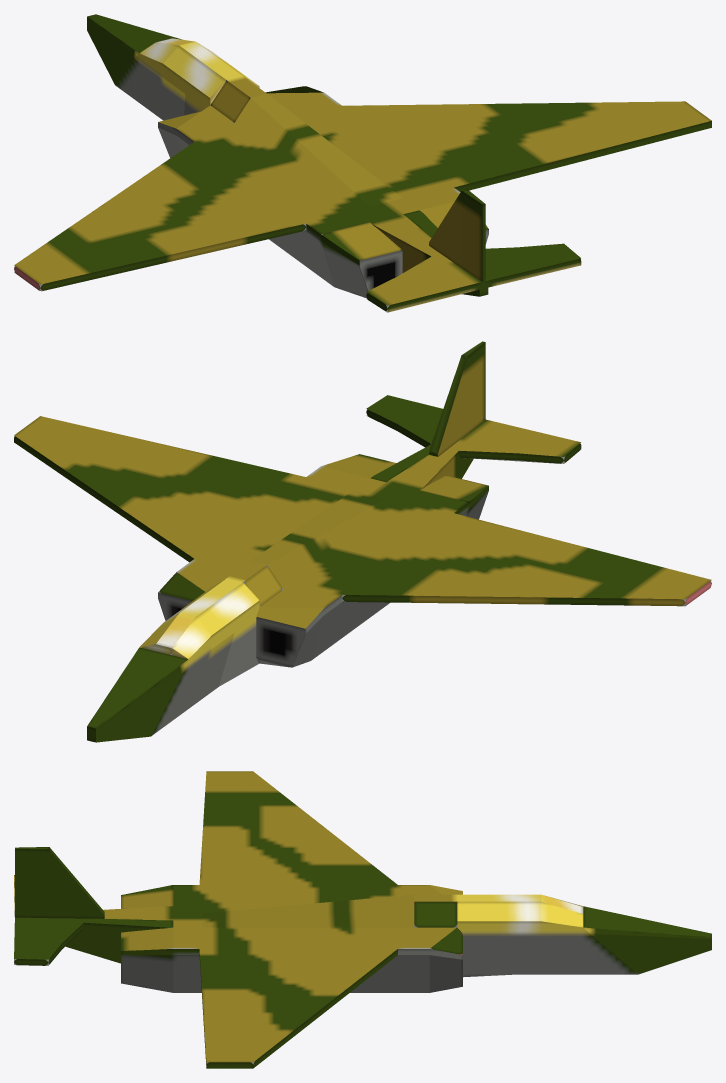
The model's file is Grach.fbx.
3 renders of one model, top to bottom at view 1: azimuth 30°, elevation 25°; view 2: azimuth 150°, elevation 25°; view 3: azimuth 270°, elevation 25°, orthographic. The views are drawn at different scales.
Parts seen in each view (by area): view 1: cuboid; view 2: cuboid; view 3: cuboid.
Part boxes in pixels (x1,y1,x2,y2): cuboid: [14, 14, 711, 312]; cuboid: [14, 341, 711, 742]; cuboid: [14, 771, 711, 1068].
Size of the model in its own units: 625 by 119 by 633.
1 material, 1 textured.
